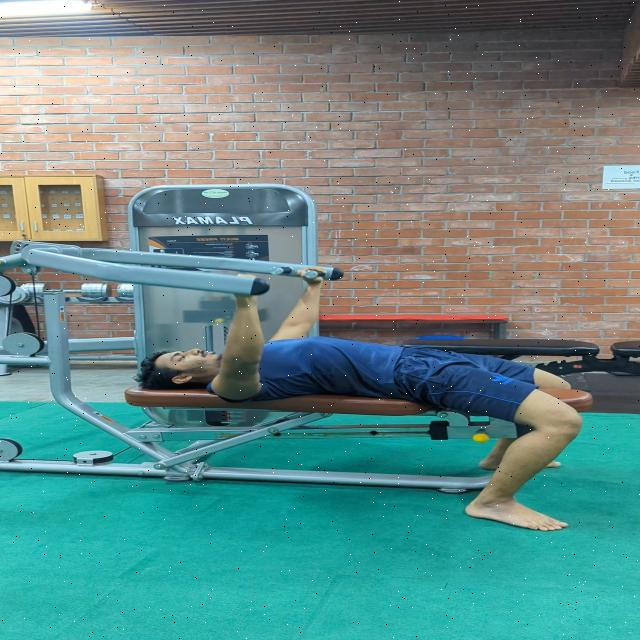Normal_BrenchPress: (111, 239, 626, 535)
